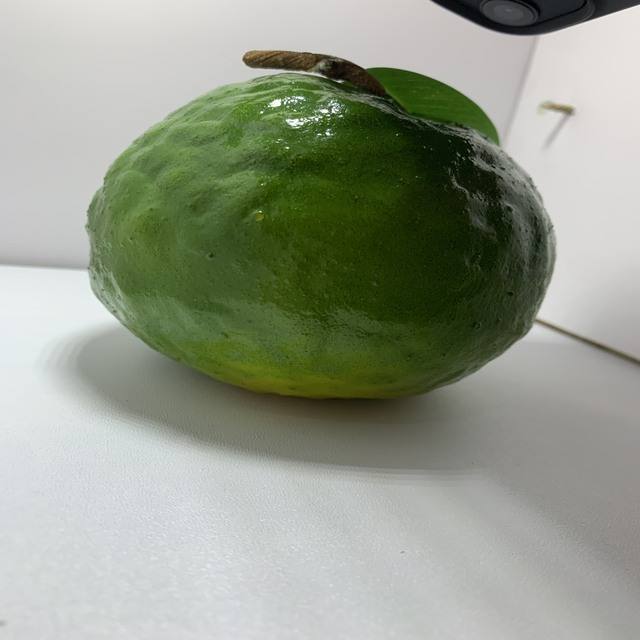Cam xanh: (76, 44, 570, 414)
